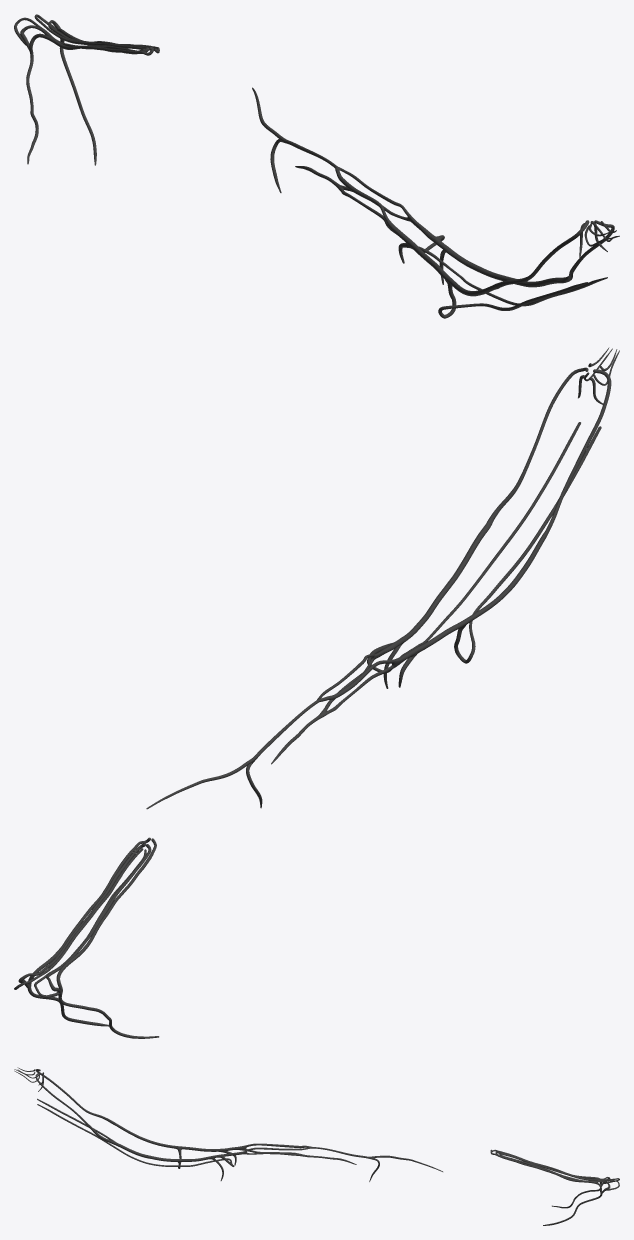
Rendered from PARASYMP.glb.
3 renders of one model, top to bottom at view 1: azimuth 30°, elevation 25°; view 2: azimuth 150°, elevation 25°; view 3: azimuth 270°, elevation 25°, orthographic. The views are drawn at different scales.
Parts seen in each view (by area): view 1: PARASYMP; view 2: PARASYMP; view 3: PARASYMP.
Boxes of the visible parts, box(x1,y1,x2,y2) form: PARASYMP: box(14, 14, 619, 318); PARASYMP: box(14, 347, 619, 1038); PARASYMP: box(14, 1067, 619, 1225).
Size of the model in its own units: 0.0246 by 0.0611 by 0.2115.
1 material, 1 textured.
